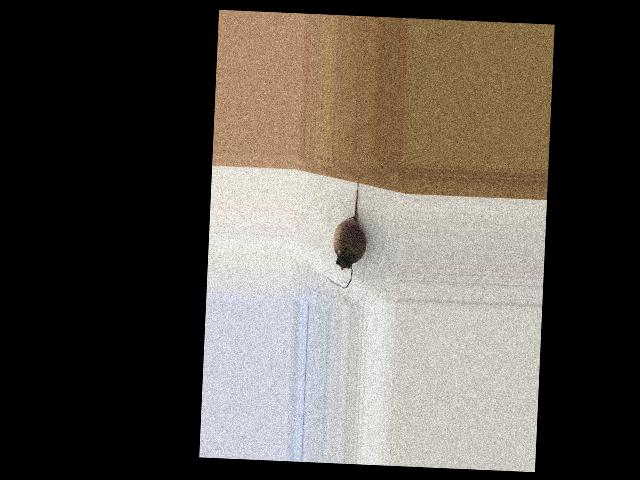beet: (327, 179, 369, 288)
